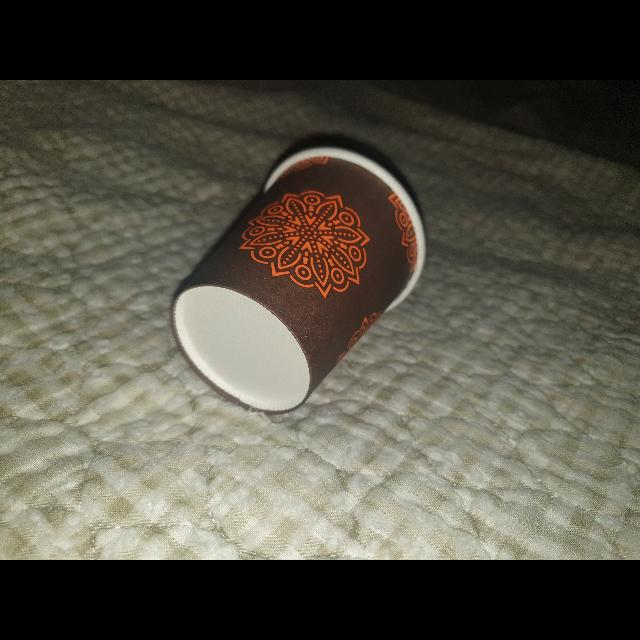trash: (164, 137, 430, 417)
